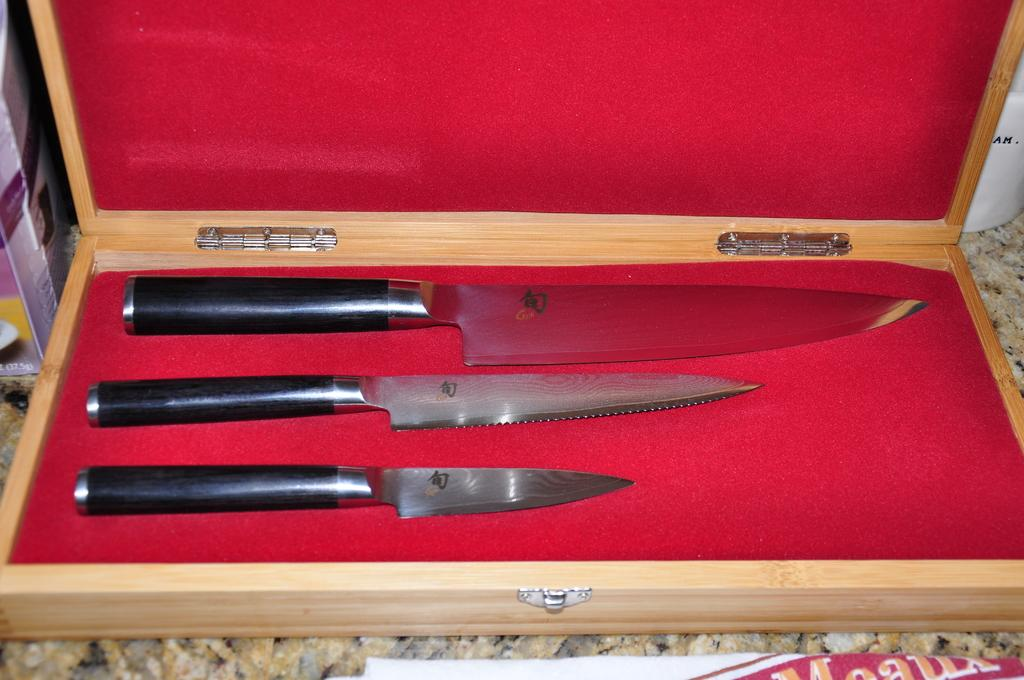Knife: (119, 275, 927, 371), (85, 371, 767, 439), (74, 464, 637, 524)
